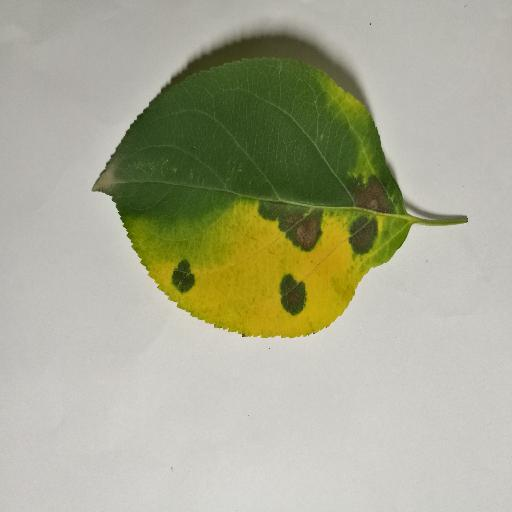Brown_Spot: (344, 175, 390, 257), (263, 200, 319, 248), (163, 255, 207, 300), (274, 275, 307, 314)
